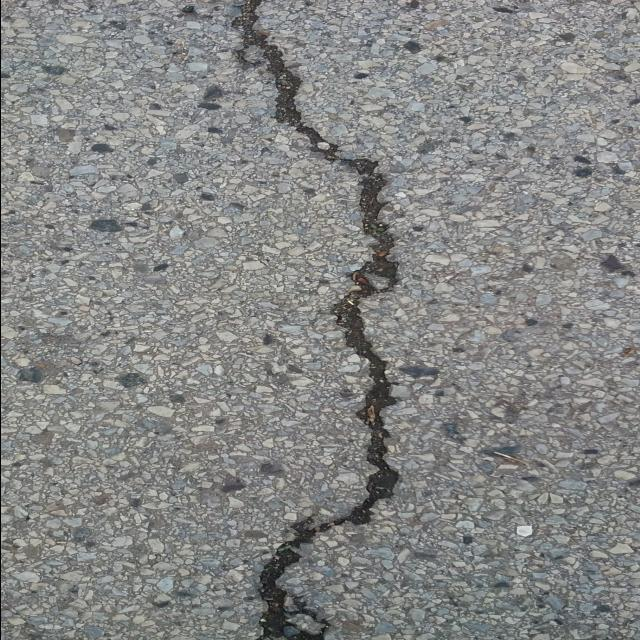Crack: (230, 0, 403, 640)
